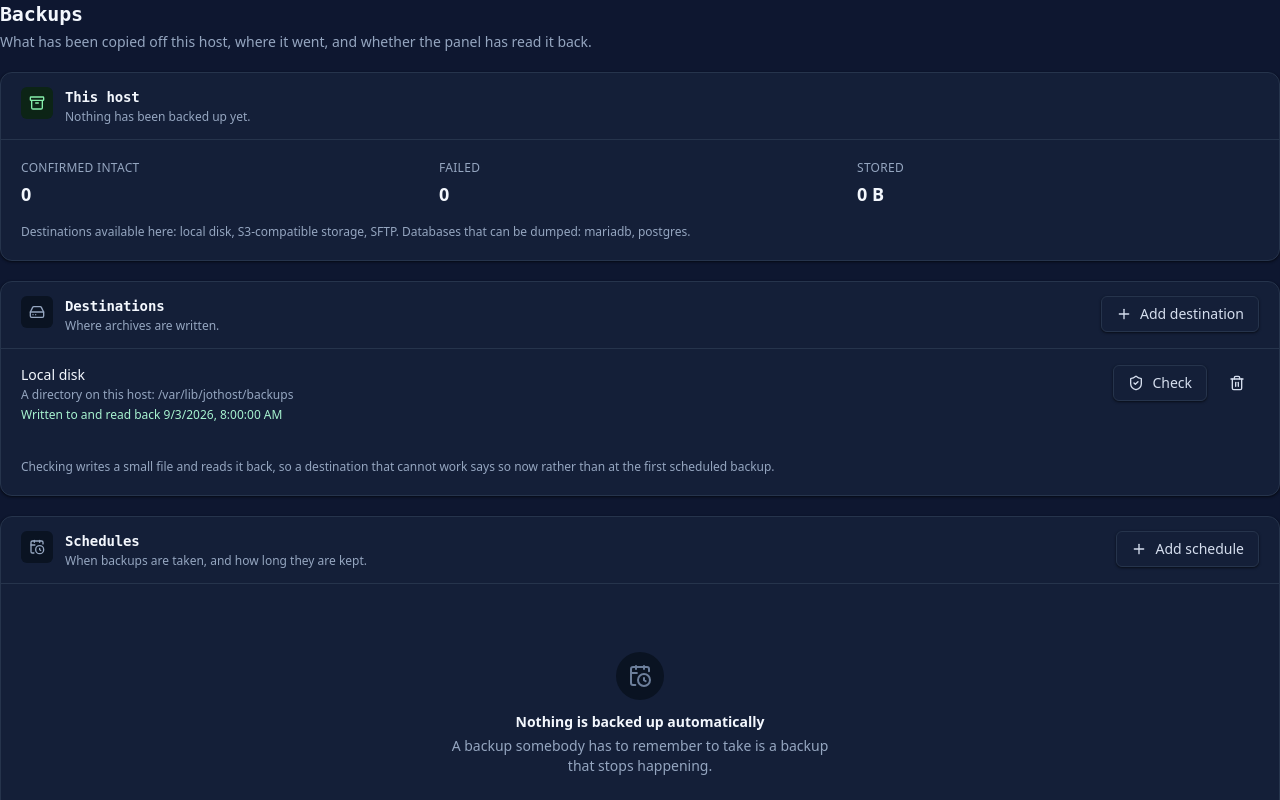
Test: BackupsPage › asks an SFTP destination for a host key
The width and height of the screenshot is (1280, 800).
Click the button "Add destination".
click(1180, 314)  # box [1101,296,1259,332]
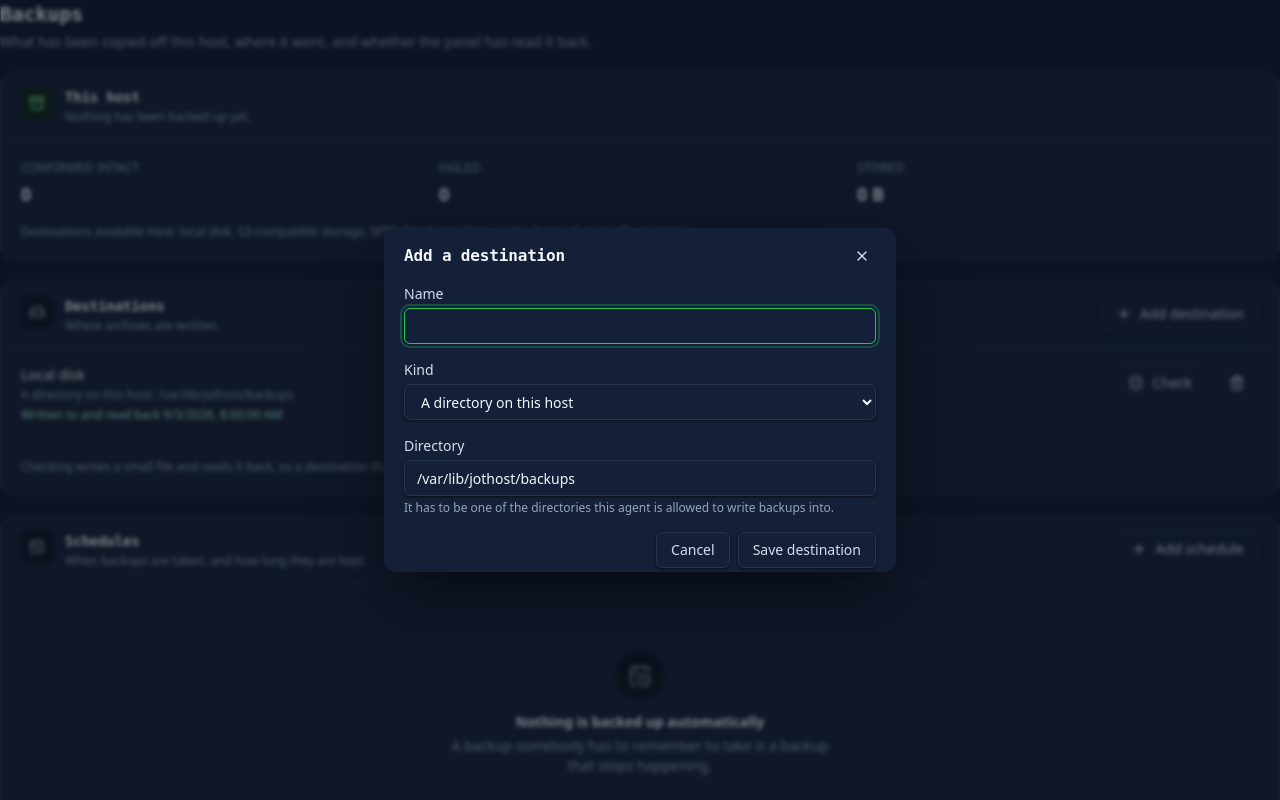
Select "Another machine over SFTP" in the dropdown labelled "Kind" at (640, 402), box [404,384,876,420]
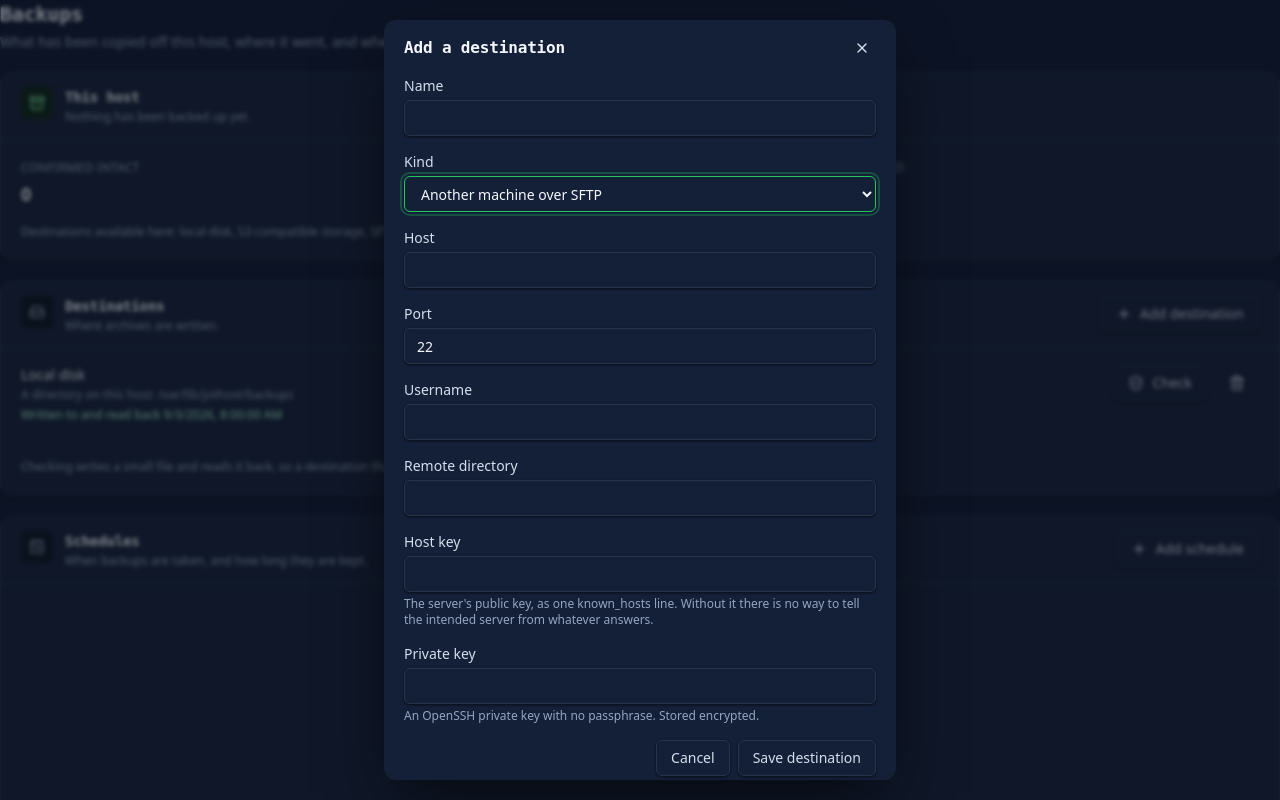
expect the field labelled "Host key" is shown: met, box [404,556,876,592]
expect the text "no way to tell the intended server from whatever answers" is shown: met, box [404,595,860,628]
